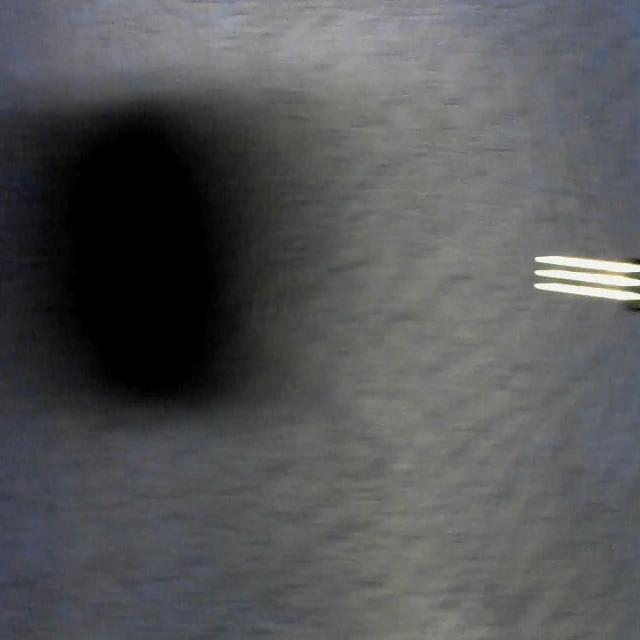BJT: (532, 249, 640, 312)
